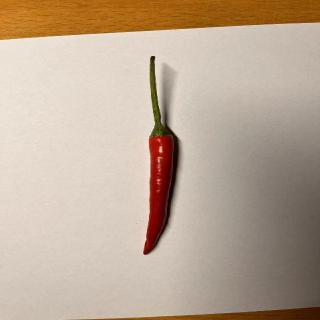Cabai Merah: (143, 56, 175, 256)
